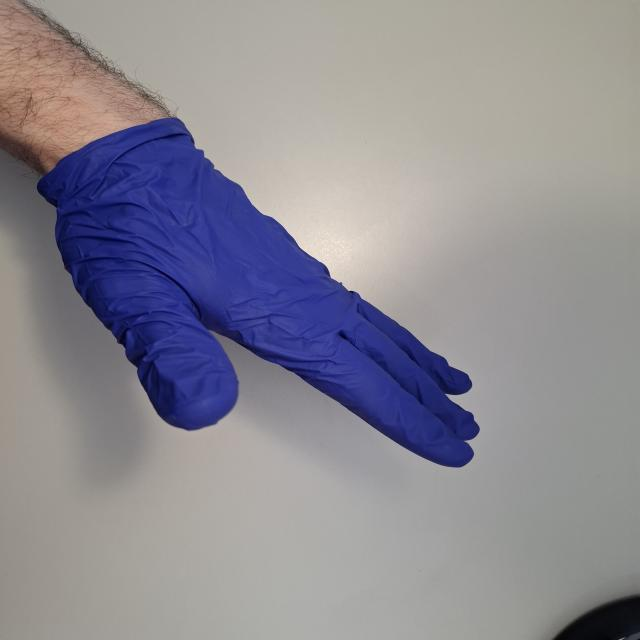glove_on: (34, 114, 486, 472)
